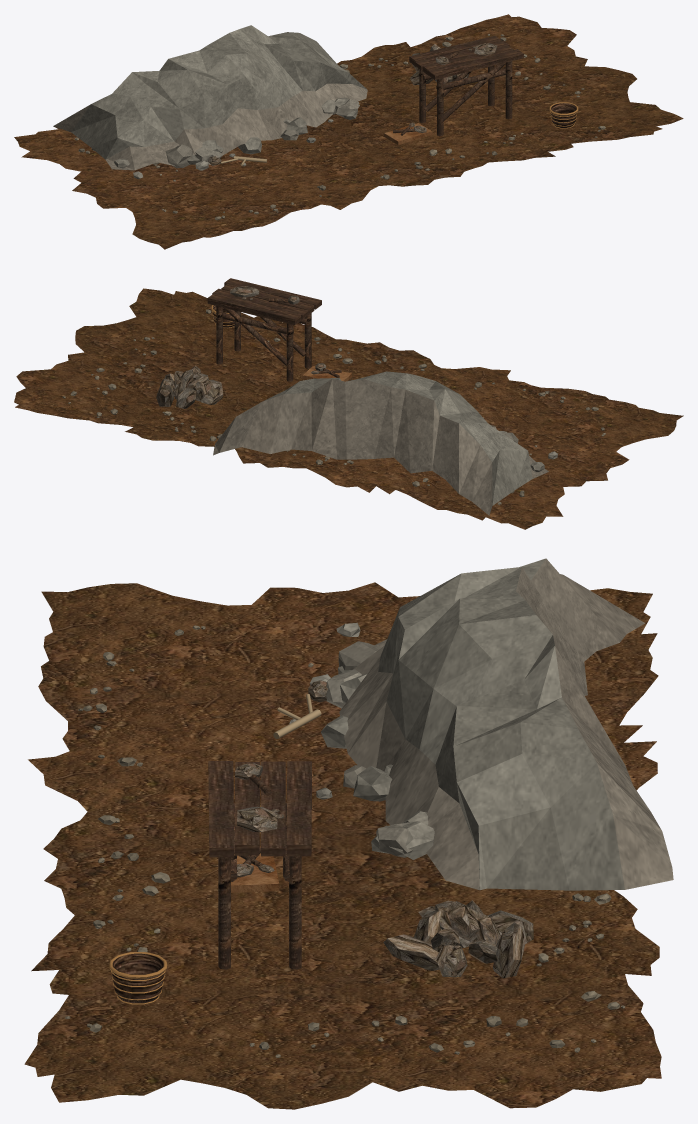
Rendered from quarry@1.glb.
The picture shows the model from 3 angles, top to bottom: view 1: azimuth 30°, elevation 25°; view 2: azimuth 150°, elevation 25°; view 3: azimuth 270°, elevation 25°; orthographic projection. The views are drawn at different scales.
Visible parts, largest first — view 1: part_0, part_1, part_4, part_3, part_7, part_5; view 2: part_0, part_1, part_4, part_3; view 3: part_0, part_1, part_4, part_3, part_7, part_5, part_8.
Part boxes in pixels (<box>): part_0: <box>14,14,683,249</box>; part_1: <box>53,25,605,220</box>; part_4: <box>393,35,523,136</box>; part_3: <box>208,43,497,165</box>; part_7: <box>550,103,576,127</box>; part_5: <box>384,123,432,145</box>; part_0: <box>14,288,683,529</box>; part_1: <box>62,309,605,515</box>; part_4: <box>207,278,341,381</box>; part_3: <box>156,286,496,429</box>; part_0: <box>24,582,661,1109</box>; part_1: <box>65,558,673,1057</box>; part_4: <box>208,761,311,969</box>; part_3: <box>235,680,533,978</box>; part_7: <box>111,953,164,1003</box>; part_5: <box>231,853,279,892</box>; part_8: <box>109,952,167,1004</box>.
Size of the model in its own units: 7.6 by 1.14 by 3.93.
9 materials, 6 textured.
